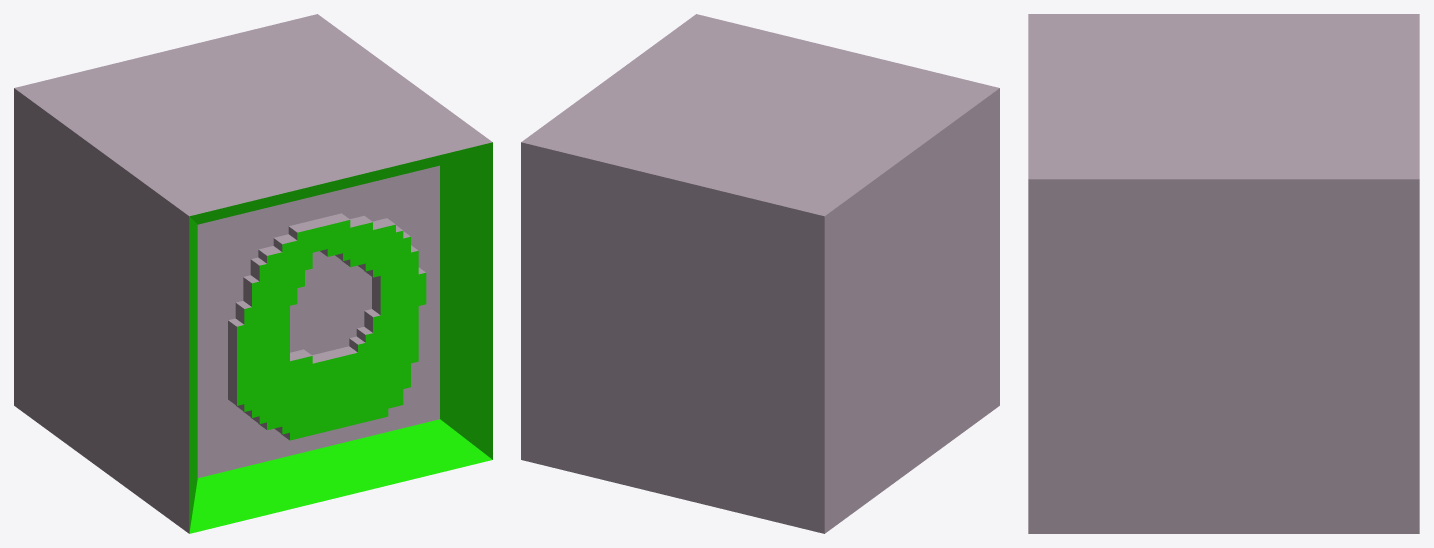
File: BlockO.fbx
3 renders of one model, left to right at view 1: azimuth 30°, elevation 25°; view 2: azimuth 150°, elevation 25°; view 3: azimuth 270°, elevation 25°, orthographic. The views are drawn at different scales.
Parts seen in each view (by area): view 1: Cube; view 2: Cube; view 3: Cube.
Part boxes in pixels (left/top/right/bottom): Cube: left=14, top=14, right=492, bottom=533; Cube: left=521, top=14, right=999, bottom=533; Cube: left=1028, top=14, right=1419, bottom=533.
Bounding box in the file's own units: 2000 × 2000 × 2000.
